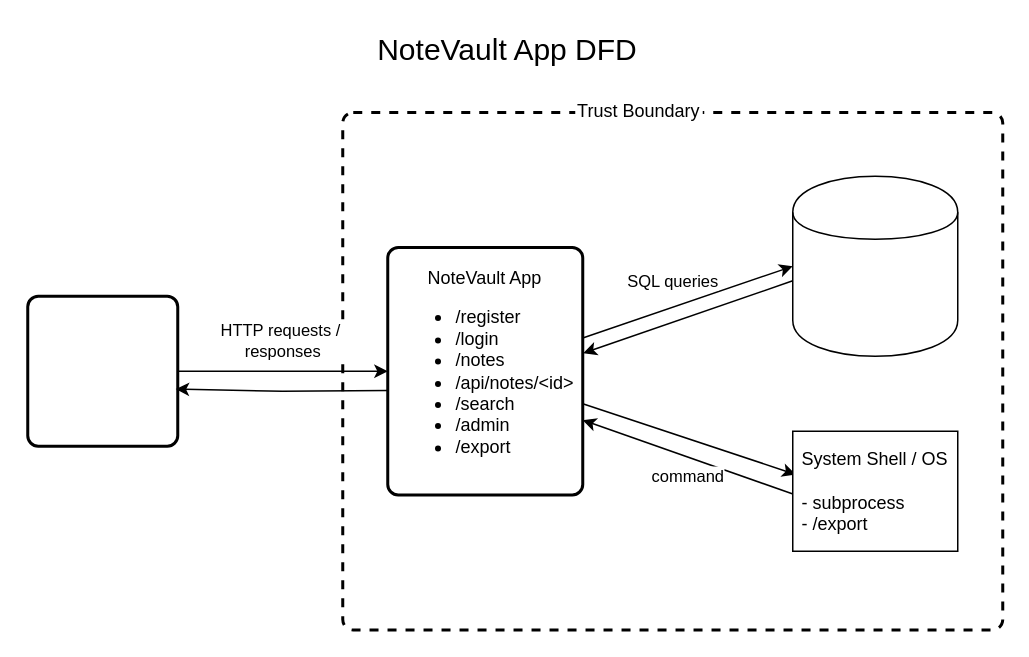
Some shapes in this 1029 by 657 pixel diagram are drawn without their labels. Here are the shapes that lost their labels. From the top down, the box of each, then its label:
(791, 175, 958, 356): notevault.db SQLite - users - notes
(26, 294, 178, 447): Web Client (Browser / curl)
